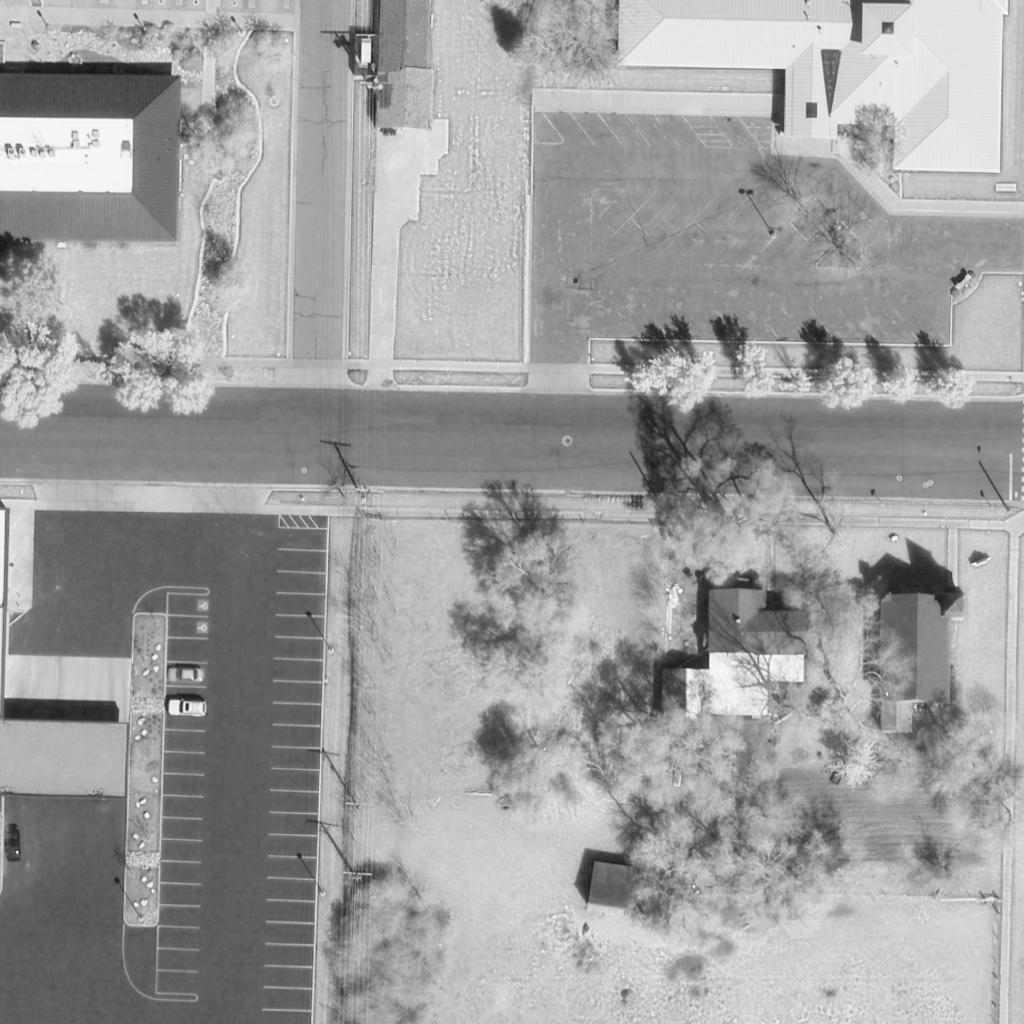vehicle: (167, 696, 209, 720), (5, 825, 23, 863), (168, 665, 206, 683)
